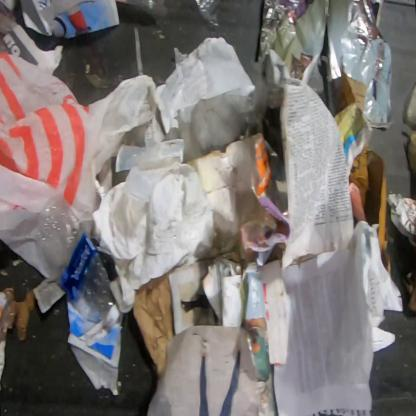cardboard: (186, 126, 280, 258), (348, 144, 387, 253)
rigid_plastic: (34, 194, 120, 332), (114, 134, 185, 173)
soft_plastic: (0, 50, 158, 279), (114, 0, 168, 26), (193, 0, 222, 30)
